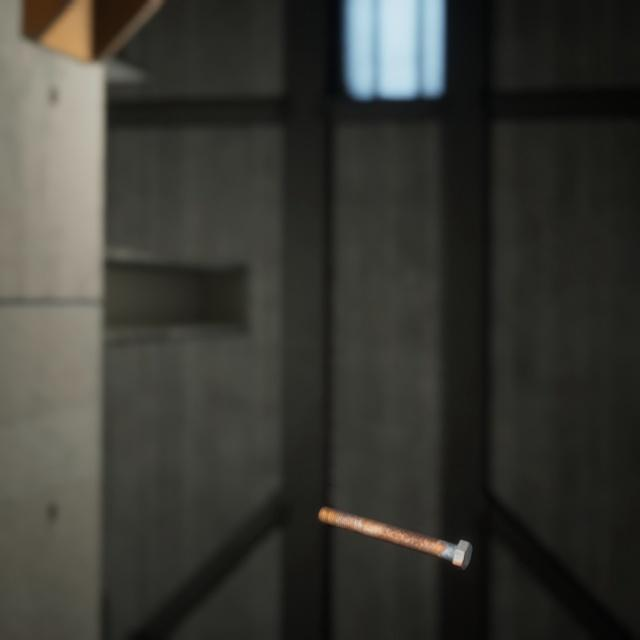bolt: (313, 481, 476, 553)
